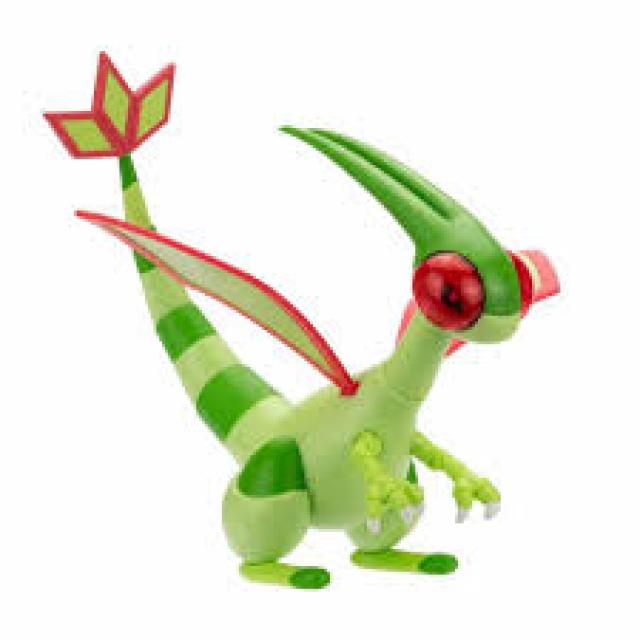flygon: (37, 48, 565, 598)
